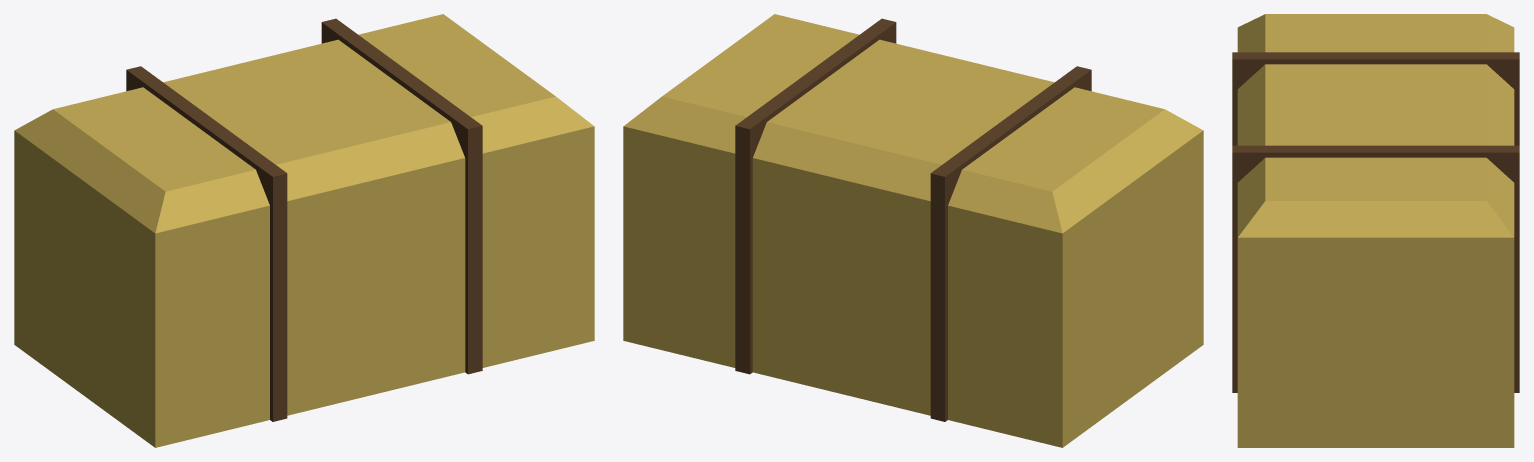
The model's file is Hay.fbx.
The picture shows the model from 3 angles, left to right: view 1: azimuth 30°, elevation 25°; view 2: azimuth 150°, elevation 25°; view 3: azimuth 270°, elevation 25°; orthographic projection.
Visible parts, largest first — view 1: Kit_Hay; view 2: Kit_Hay; view 3: Kit_Hay.
Part boxes in pixels (x1=…): Kit_Hay: x1=14, y1=14, x2=594, y2=447; Kit_Hay: x1=623, y1=14, x2=1203, y2=447; Kit_Hay: x1=1232, y1=14, x2=1519, y2=447.
Size of the model in its own units: 0.9 by 0.48 by 0.52.
